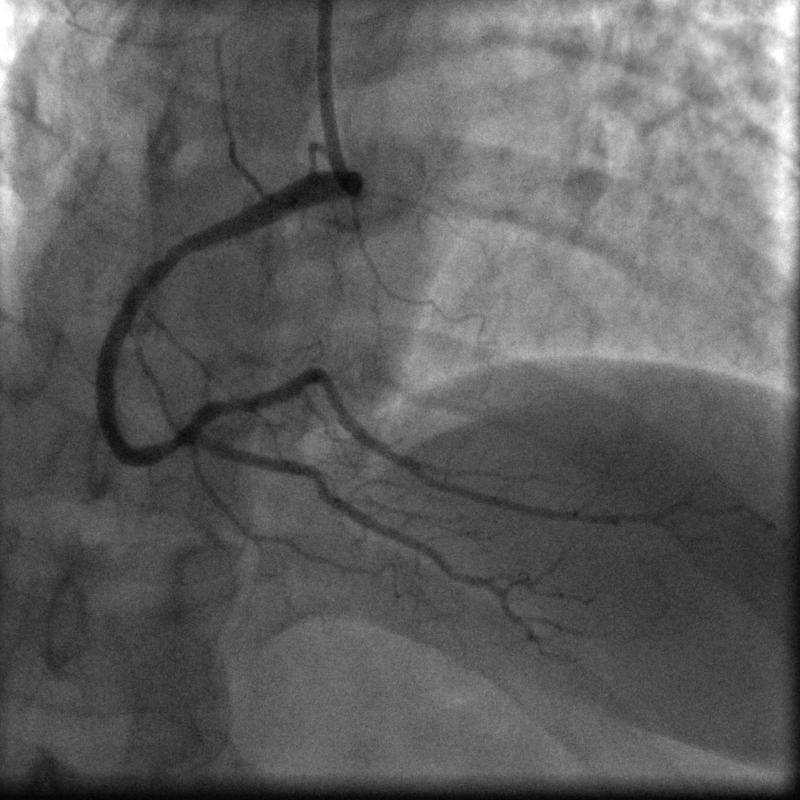Stenosis: (153, 433, 188, 455)
